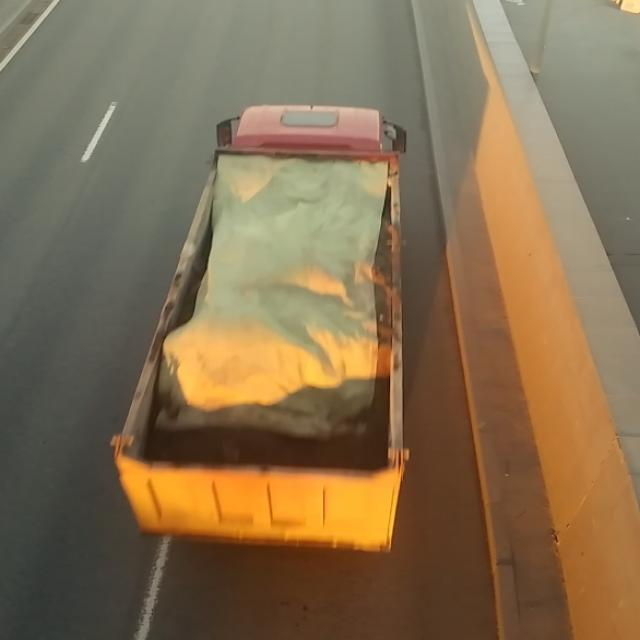truck: (106, 96, 428, 564)
